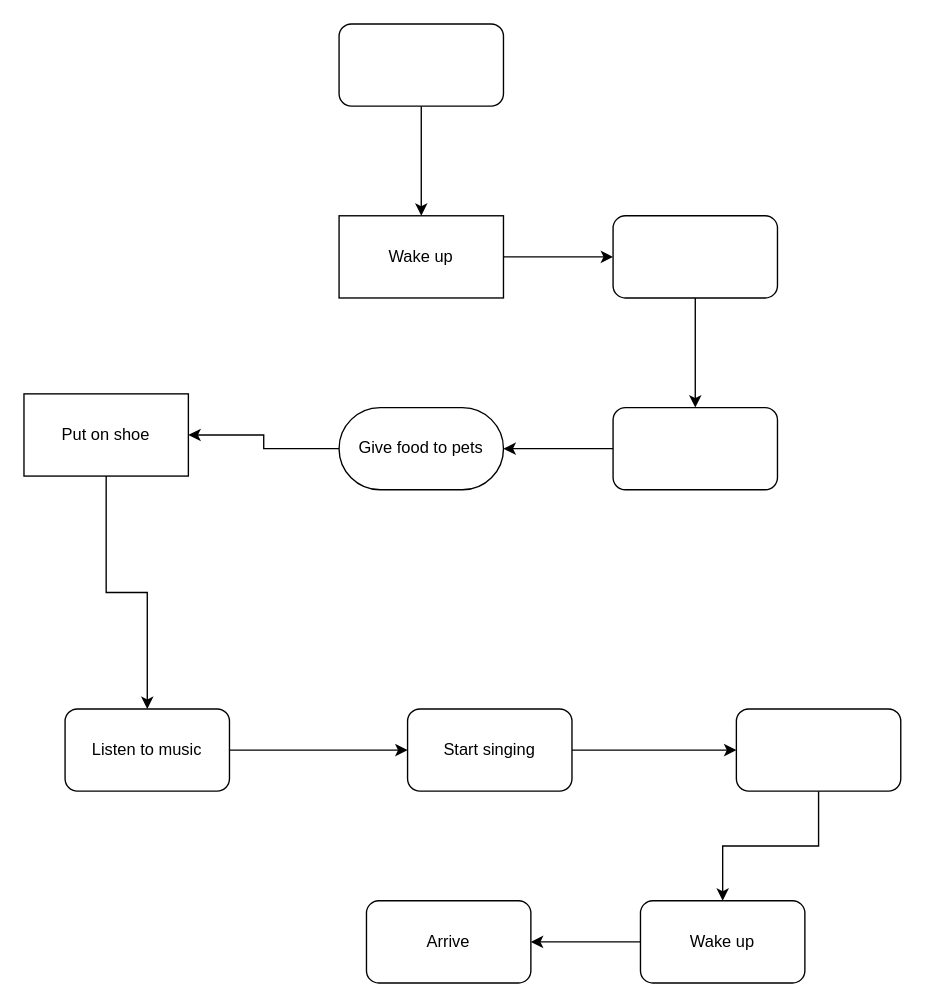
Image size: 925x1007. Some labels were removed from this diagram. The shapes that lost their labels are listed below. From the top down, each one's centre as x and y in pixels, then its label:
point 420,64: Start
point 694,256: Brush teeth
point 694,448: Eat breakfast
point 818,749: Sleep
